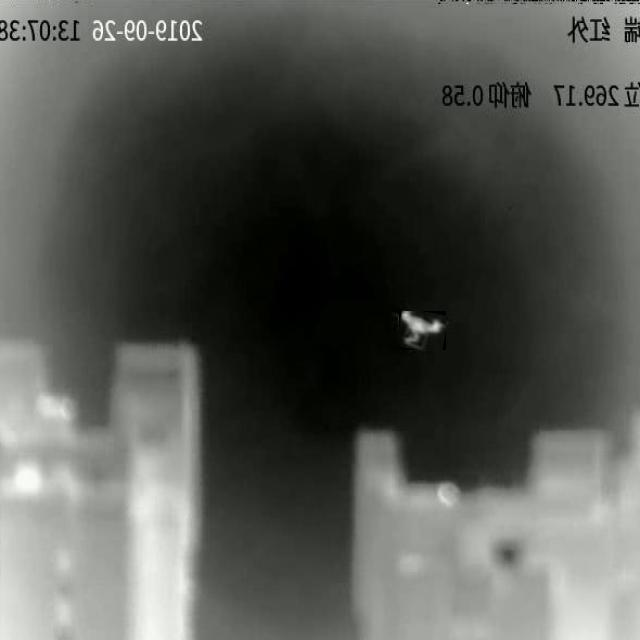drone: (402, 311, 446, 350)
